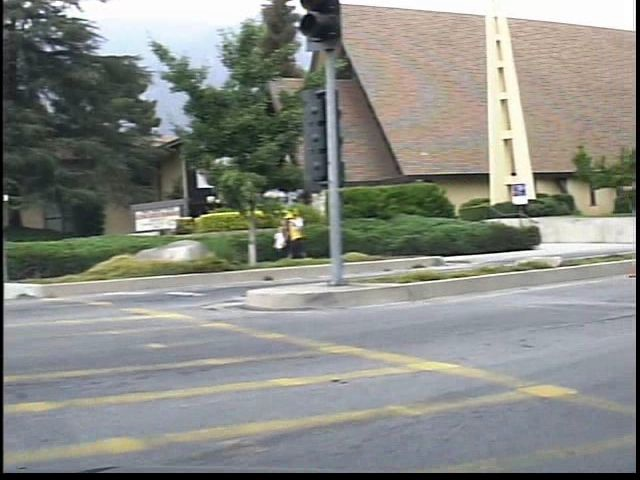person: (292, 207, 325, 265)
